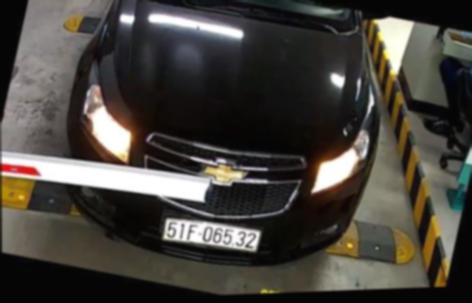License_Plate: (159, 206, 269, 270)
